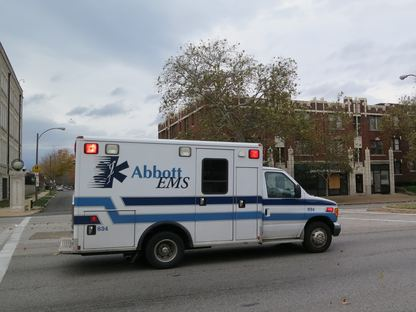ambulance: (58, 135, 341, 270)
